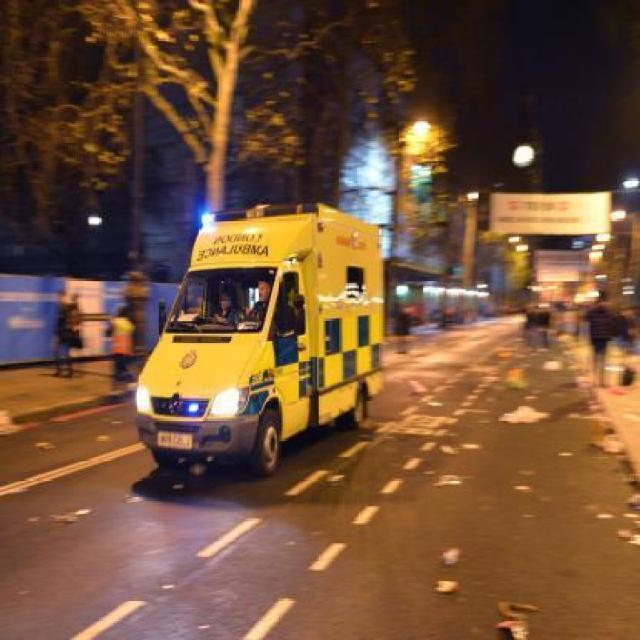emergency: (134, 198, 386, 478)
